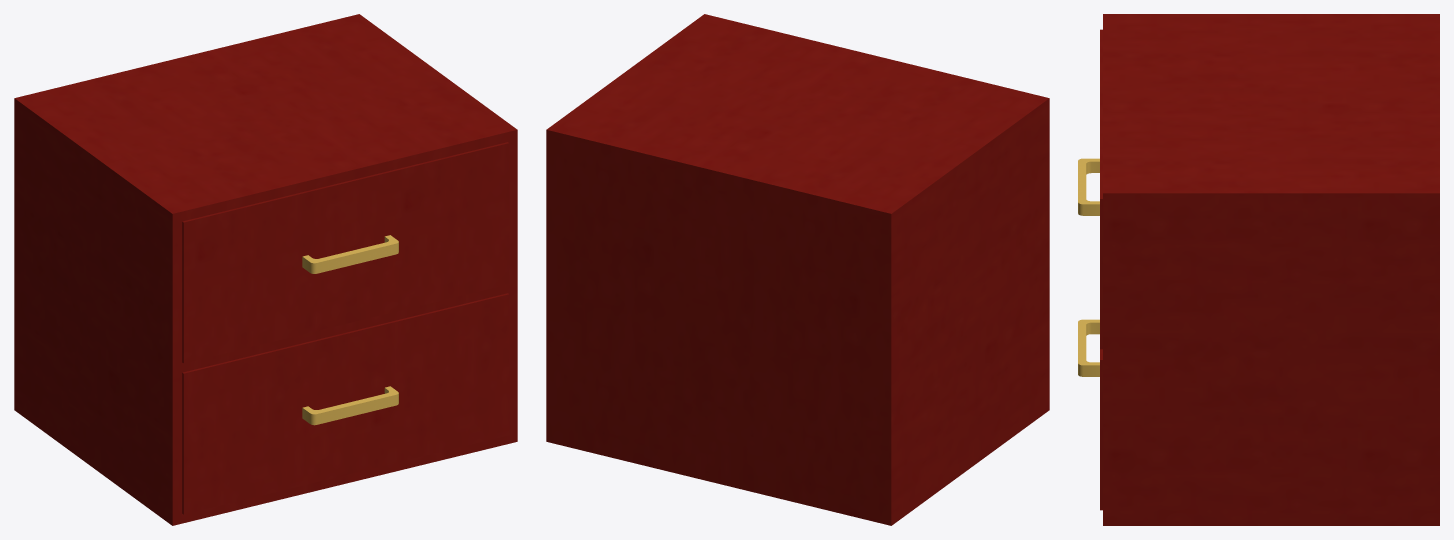
Rendered from Drawer08.fbx.
The picture shows the model from 3 angles, left to right: view 1: azimuth 30°, elevation 25°; view 2: azimuth 150°, elevation 25°; view 3: azimuth 270°, elevation 25°; orthographic projection. The views are drawn at different scales.
Visible parts, largest first — view 1: Drawer_Body08, Drawer08_2, Drawer08_1; view 2: Drawer_Body08; view 3: Drawer_Body08, Drawer08_1, Drawer08_2.
Part boxes in pixels (x1=…): Drawer_Body08: x1=14, y1=14, x2=517, y2=525; Drawer08_2: x1=182, y1=293, x2=509, y2=514; Drawer08_1: x1=182, y1=142, x2=509, y2=363; Drawer_Body08: x1=546, y1=14, x2=1049, y2=525; Drawer_Body08: x1=1103, y1=14, x2=1439, y2=525; Drawer08_1: x1=1078, y1=29, x2=1102, y2=349; Drawer08_2: x1=1078, y1=319, x2=1102, y2=510.
Bounding box in the file's own units: 51.44 × 44.45 × 43.83.
